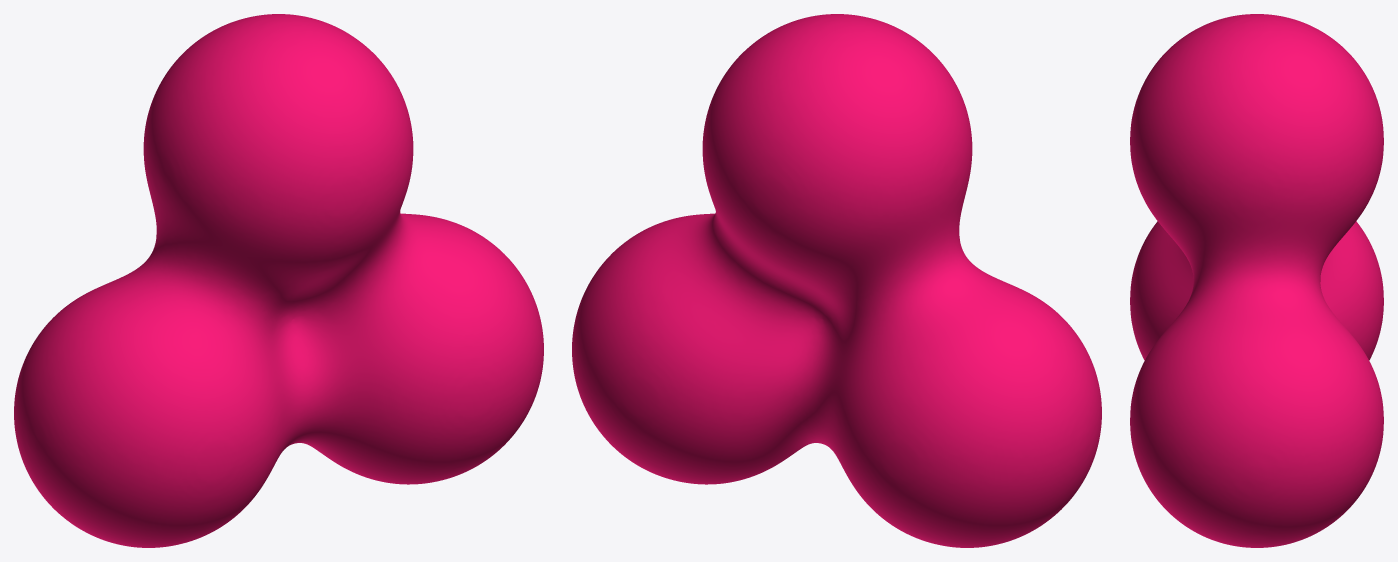
Rendered from Spheres.glb.
The picture shows the model from 3 angles, left to right: view 1: azimuth 30°, elevation 25°; view 2: azimuth 150°, elevation 25°; view 3: azimuth 270°, elevation 25°; orthographic projection. The views are drawn at different scales.
Parts seen in each view (by area): view 1: Spheres; view 2: Spheres; view 3: Spheres.
Boxes of the visible parts, <box> form: Spheres: <box>14,14,543,547</box>; Spheres: <box>572,14,1101,547</box>; Spheres: <box>1130,14,1383,547</box>.
Size of the model in its own units: 3.01 by 2.78 by 1.42.
